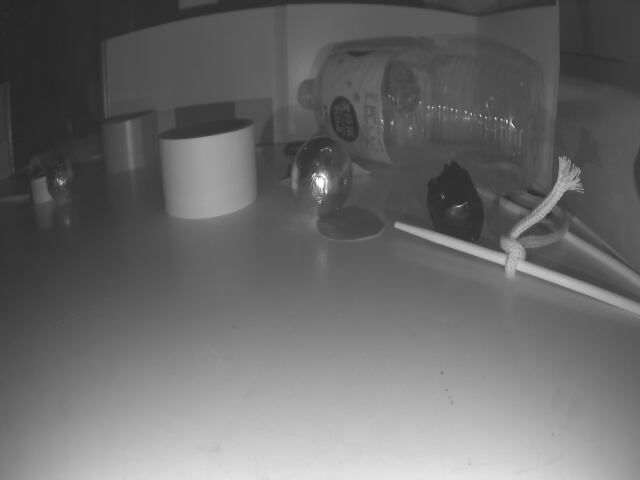Dead: (427, 161, 484, 238)
Live: (293, 138, 353, 213), (47, 159, 72, 199)
